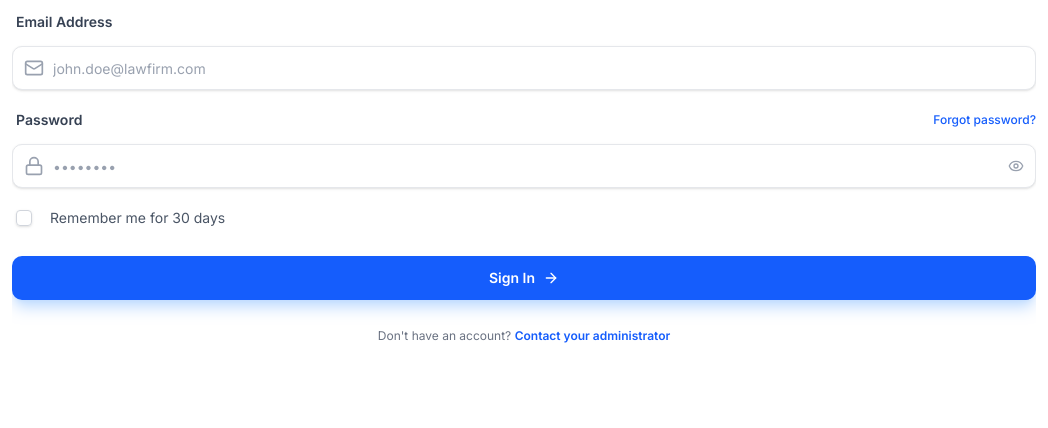
Test: LoginForm › shows validation errors for empty fields
The width and height of the screenshot is (1048, 428).
Step 1. Click the button "Sign In" → (524, 278), box x1=12 y1=256 x2=1036 y2=300
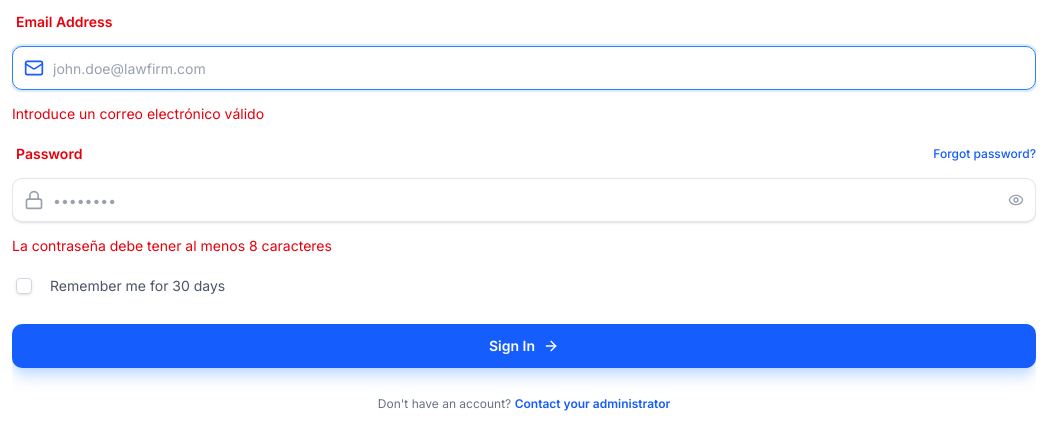
Result: the text "Introduce un correo electrónico válido" is shown at x1=12 y1=105 x2=264 y2=122
Result: the text "La contraseña debe tener al menos 8 caracteres" is shown at x1=12 y1=237 x2=332 y2=254
